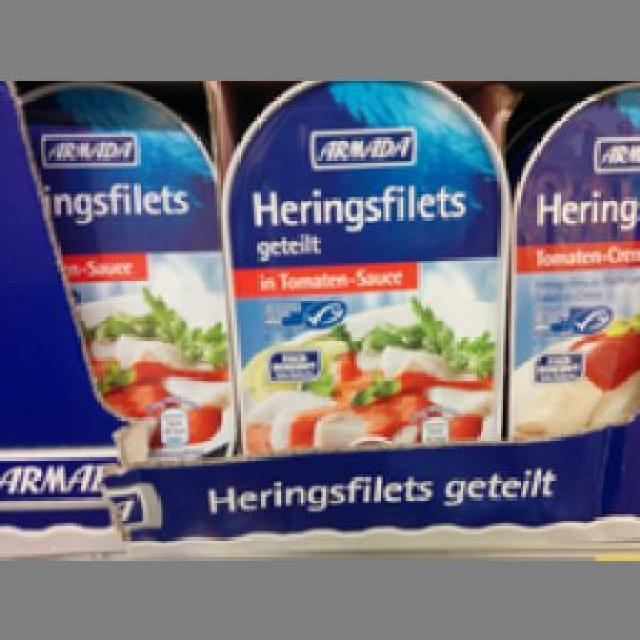Fish: (214, 80, 503, 449), (11, 77, 238, 457), (505, 77, 638, 443)
